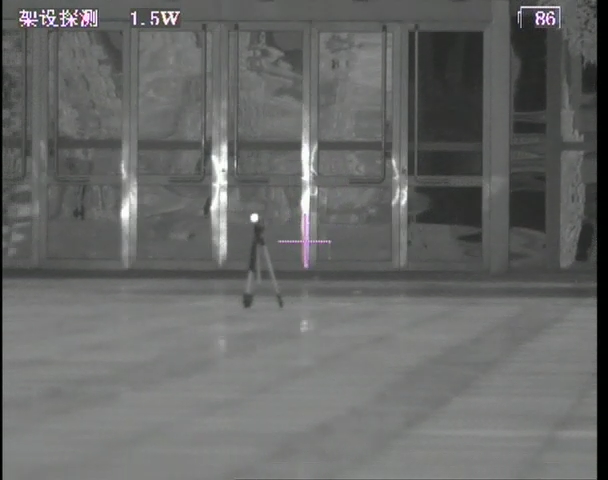my: (248, 211, 261, 224)
